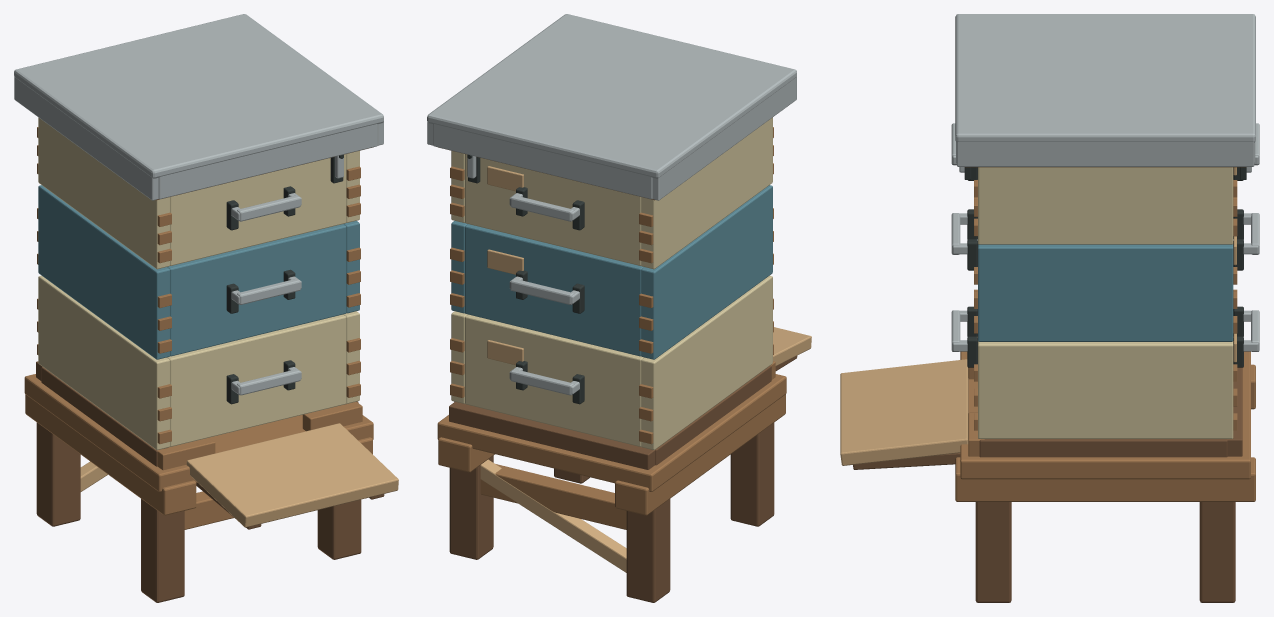
File: city-urban-apiary-beehive.glb
3 renders of one model, left to right at view 1: azimuth 30°, elevation 25°; view 2: azimuth 150°, elevation 25°; view 3: azimuth 270°, elevation 25°, orthographic. The views are drawn at different scales.
Visible parts, largest first — view 1: Assembly | Cream painted hive timber, Assembly | Satin galvanized hardware, Assembly | Muted blue painted hive timber, Assembly | Warm unfinished timber, Assembly | Pale timber endgrain, Assembly | Dark timber braces, Assembly | Charcoal hardware; view 2: Assembly | Satin galvanized hardware, Assembly | Cream painted hive timber, Assembly | Muted blue painted hive timber, Assembly | Warm unfinished timber, Assembly | Dark timber braces, Assembly | Pale timber endgrain, Assembly | Charcoal hardware; view 3: Assembly | Satin galvanized hardware, Assembly | Cream painted hive timber, Assembly | Muted blue painted hive timber, Assembly | Warm unfinished timber, Assembly | Dark timber braces, Assembly | Pale timber endgrain, Assembly | Charcoal hardware.
Boxes of the visible parts, x1,y1,x2,y2 form: Assembly | Cream painted hive timber: (38, 117, 359, 450); Assembly | Satin galvanized hardware: (14, 14, 383, 395); Assembly | Muted blue painted hive timber: (38, 185, 359, 359); Assembly | Warm unfinished timber: (24, 127, 373, 529); Assembly | Pale timber endgrain: (80, 423, 398, 527); Assembly | Dark timber braces: (36, 361, 384, 602); Assembly | Charcoal hardware: (226, 154, 343, 404); Assembly | Satin galvanized hardware: (427, 14, 796, 395); Assembly | Cream painted hive timber: (451, 117, 772, 450); Assembly | Muted blue painted hive timber: (451, 185, 772, 359); Assembly | Warm unfinished timber: (437, 127, 786, 529); Assembly | Dark timber braces: (449, 356, 797, 602); Assembly | Pale timber endgrain: (480, 166, 811, 572); Assembly | Charcoal hardware: (467, 154, 584, 404); Assembly | Satin galvanized hardware: (951, 14, 1259, 351); Assembly | Cream painted hive timber: (978, 167, 1233, 438); Assembly | Muted blue painted hive timber: (978, 244, 1233, 341); Assembly | Warm unfinished timber: (955, 167, 1255, 501); Assembly | Dark timber braces: (853, 337, 1242, 602); Assembly | Pale timber endgrain: (840, 167, 1236, 465); Assembly | Charcoal hardware: (964, 167, 1246, 367).
Size of the model in its own units: 0.605 by 1.1 by 0.8795.
